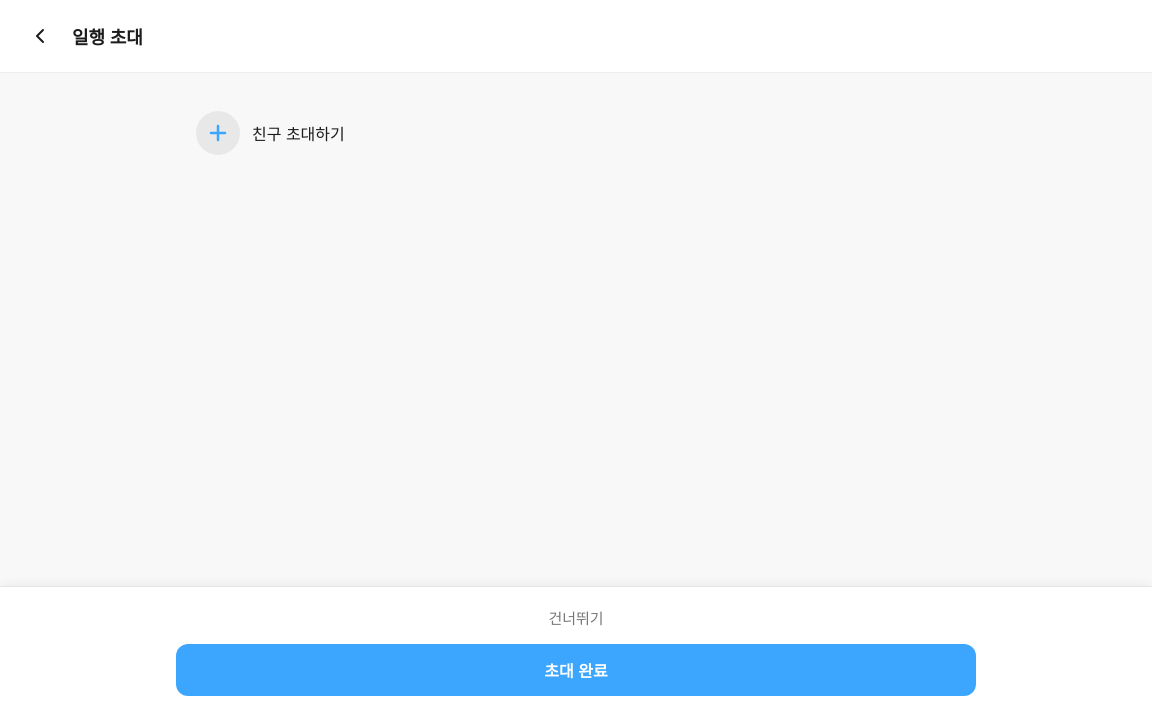
Test: InviteCompanionsPage › 입력 후 Enter 키를 누르면 검색이 실행된다
Step 1. Click the button "친구 초대하기" → (218, 133), box [196,97,956,169]
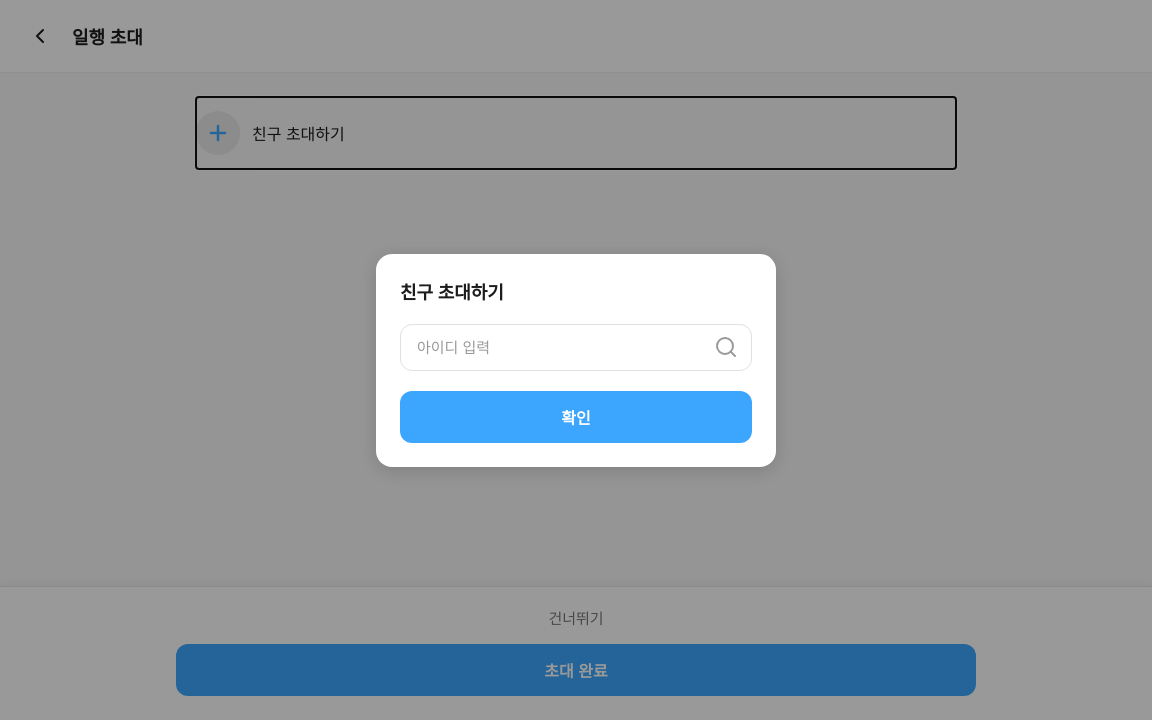
Step 2. Type "엔터검색" into the field with placeholder "아이디 입력" → (576, 347), box [400,324,752,370]
Then press Enter
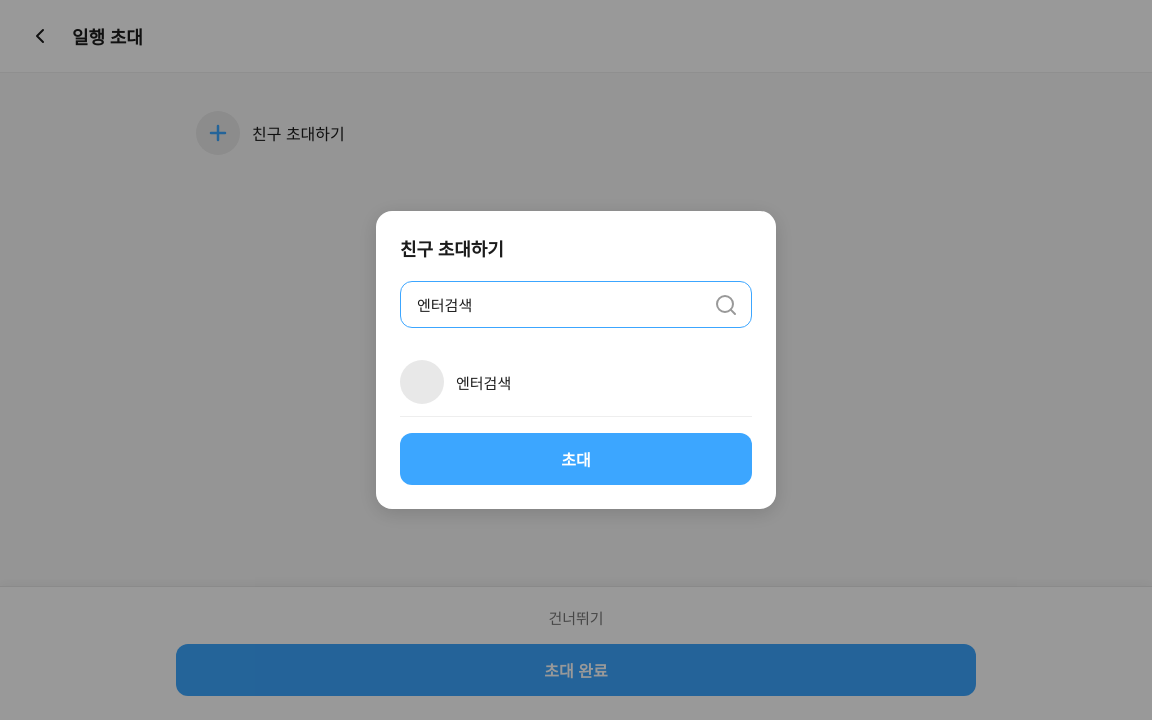
Expected: the text "엔터검색" is shown, [456,372,511,392]
Expected: the button "초대" is shown, [400,433,752,485]
